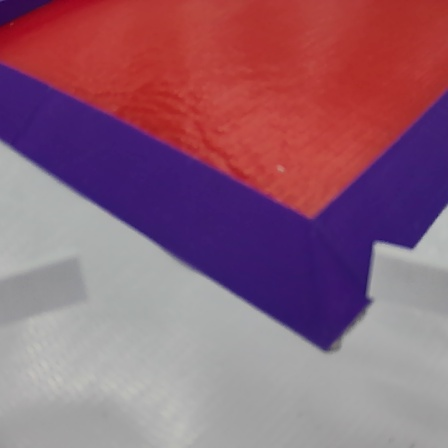red_aim: (2, 2, 446, 348)
